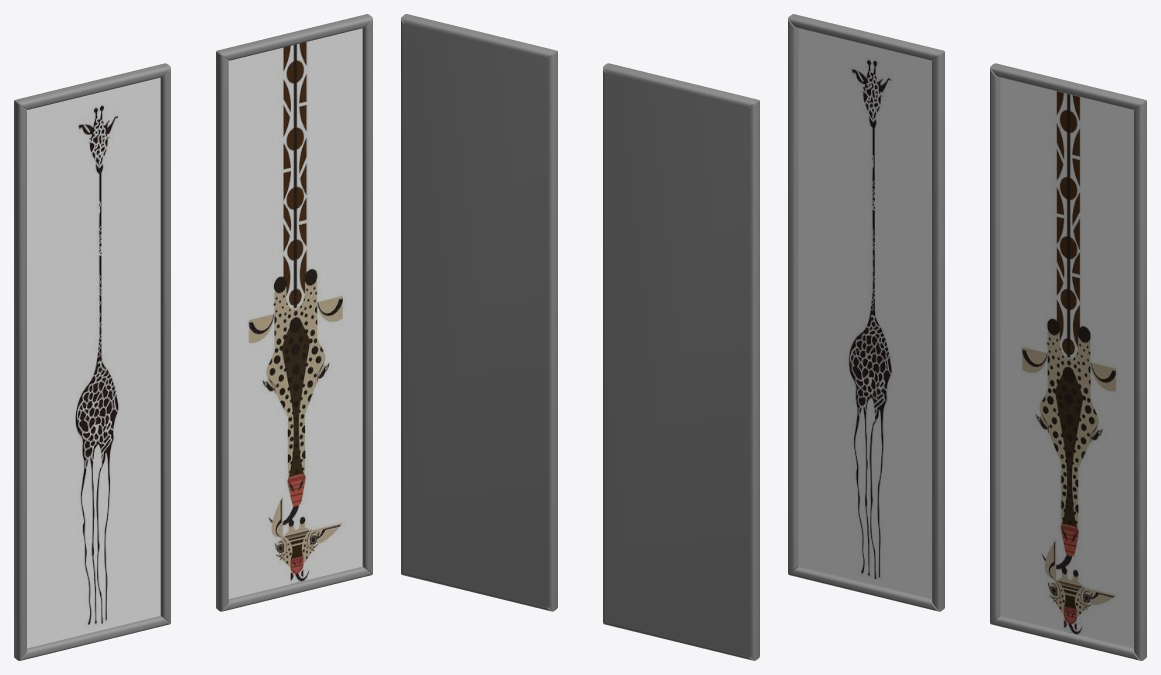
File: Set of 2 Narrow Vertical Paintings.FBX
3 renders of one model, left to right at view 1: azimuth 30°, elevation 25°; view 2: azimuth 150°, elevation 25°; view 3: azimuth 330°, elevation 25°, orthographic.
Parts seen in each view (by area): view 1: Box005; view 2: Box005; view 3: Box005.
Boxes of the visible parts, left/top/right/bottom form: Box005: left=14, top=14, right=372, bottom=660; Box005: left=401, top=14, right=759, bottom=660; Box005: left=788, top=14, right=1146, bottom=660.
Size of the model in its own units: 185 by 278 by 6.54.
